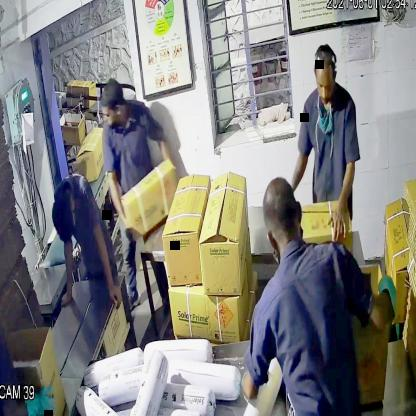no_goggles: (312, 73, 338, 96)
